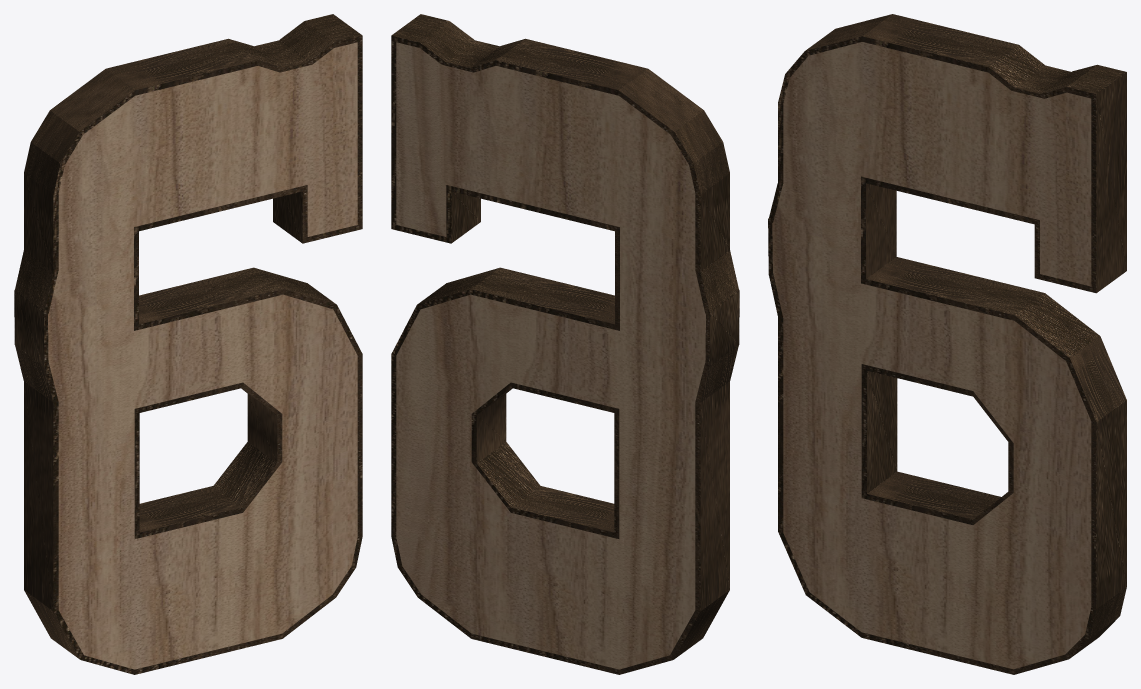
The picture shows the model from 3 angles, left to right: view 1: azimuth 30°, elevation 25°; view 2: azimuth 150°, elevation 25°; view 3: azimuth 330°, elevation 25°; orthographic projection. The views are drawn at different scales.
Visible parts, largest first — view 1: 6, 6_outline; view 2: 6, 6_outline; view 3: 6, 6_outline.
Boxes of the visible parts, bbox=[...] form: 6: bbox=[48, 42, 357, 669]; 6_outline: bbox=[14, 14, 362, 674]; 6: bbox=[396, 42, 705, 669]; 6_outline: bbox=[391, 14, 739, 674]; 6: bbox=[772, 42, 1091, 669]; 6_outline: bbox=[768, 14, 1126, 674].
Size of the model in its own units: 62.24 by 109 by 10.
2 materials, 2 textured.
